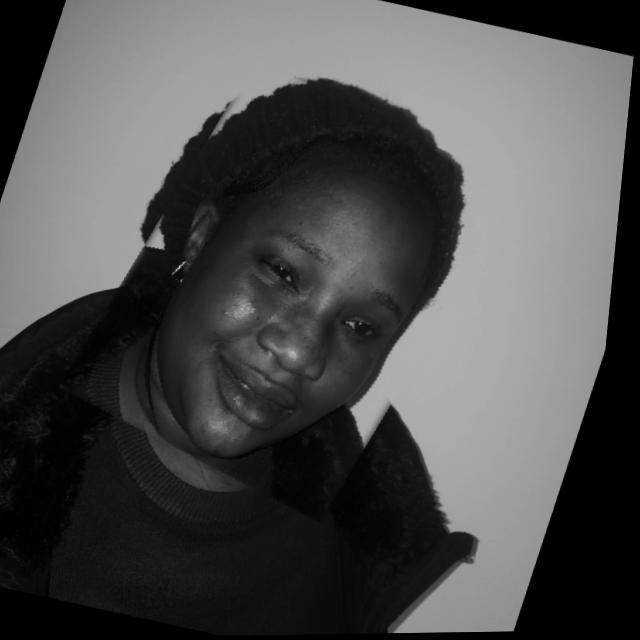sad: (62, 51, 528, 527)
